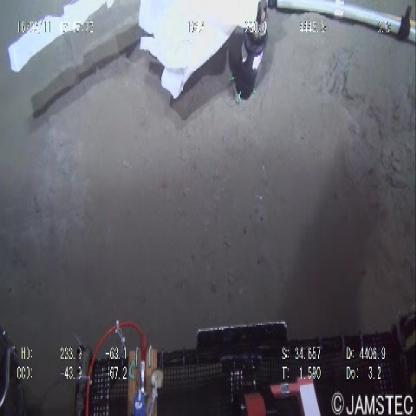Rov: (73, 313, 415, 416)
Rác: (6, 2, 261, 94)
